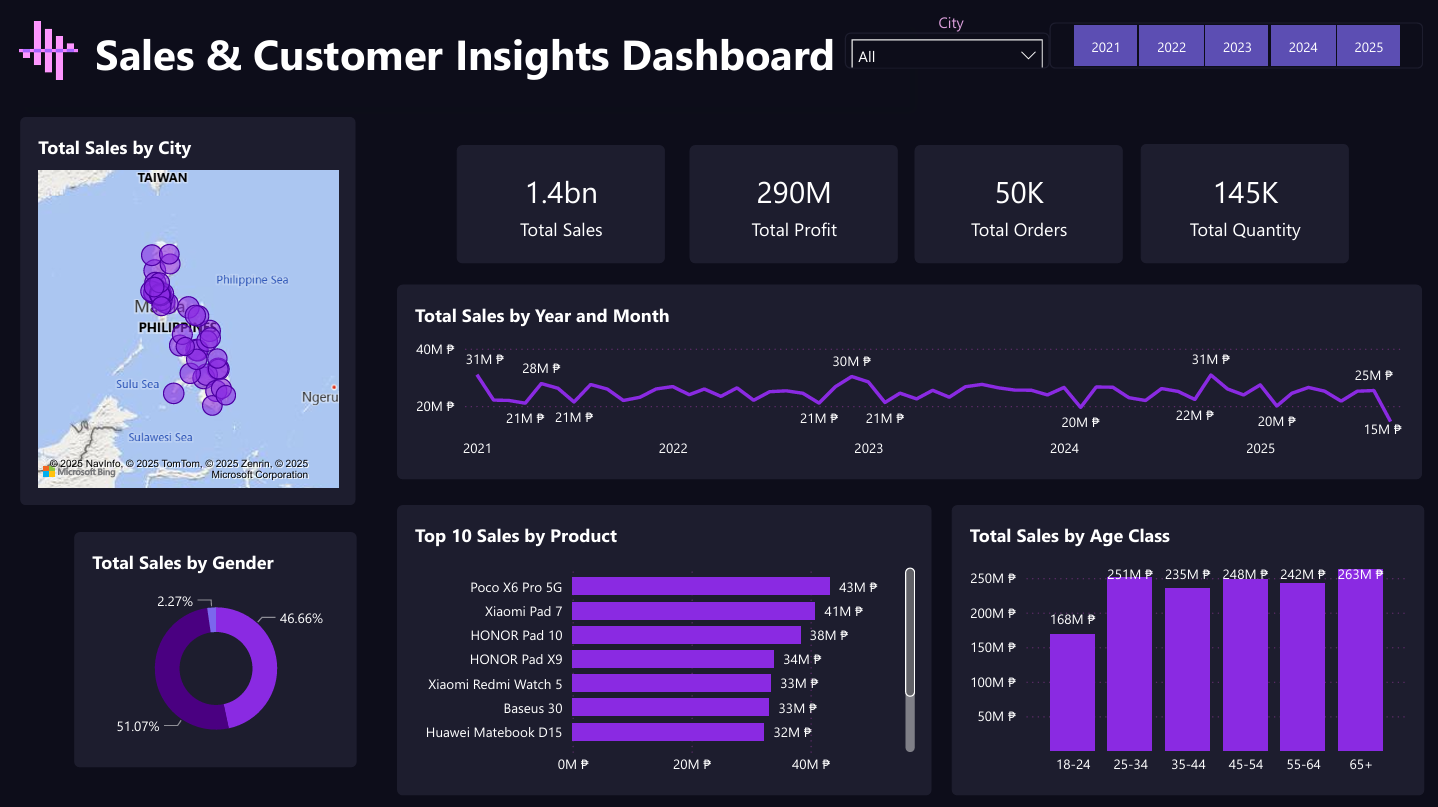

What the dashboard file says about the page in this screenshot:
{"tool":"powerbi","page":{"name":"Page 1","canvas":[1280,720],"ordinal":0},"visuals":[{"type":"card","fields":{"Values":["SalesFact.Total Sales"]},"box":[406.2,128.8,185,107.5],"z":0},{"type":"card","fields":{"Values":["SalesFact.Total Profit"]},"box":[620,128.8,177.5,107.5],"z":1000},{"type":"textbox","box":[17.5,20,791.2,75],"z":2000},{"type":"card","fields":{"Values":["SalesFact.Total Orders"]},"box":[820,128.8,131.2,107.5],"z":3000},{"type":"card","fields":{"Values":["SalesFact.Total Quantity"]},"box":[966.2,128.8,170,107.5],"z":4000},{"type":"lineChart","fields":{"Category":["SalesFact.OrderDate.Variation.Date Hierarchy.Year","SalesFact.OrderDate.Variation.Date Hierarchy.Month"],"Y":["SalesFact.Total Sales"]},"box":[353.8,276.2,910,172.5],"z":5000},{"type":"clusteredColumnChart","title":"Top 10 Sales by Product","fields":{"Category":["SalesFact.ProductName"],"Y":["SalesFact.Total Sales"]},"box":[353.8,462.5,473.8,257.5],"z":6000},{"type":"map","fields":{"Category":["SalesFact.City"],"Size":["SalesFact.Total Sales"]},"box":[17.5,103.8,298.8,345],"z":7000},{"type":"donutChart","fields":{"Category":["SalesFact.Gender"],"Y":["SalesFact.Total Sales"]},"box":[42.5,486.2,251.2,208.8],"z":8000},{"type":"columnChart","title":"Total Sales by Age Class","fields":{"Category":["SalesFact.AgeBracket"],"Y":["SalesFact.Total Sales"]},"box":[837.5,462.5,426.2,257.5],"z":9000},{"type":"slicer","fields":{"Values":["Cities.City"]},"box":[751.2,28.8,181.2,32.5],"z":10000},{"type":"textbox","box":[758.9,11.1,173.3,17.8],"z":11000},{"type":"slicer","fields":{"Values":["SalesFact.Year"]},"box":[932.5,20,332.5,41.2],"z":11001},{"type":"image","box":[1.2,3.8,82.5,82.5],"z":11002}]}

Visuals, with their boxes in screenshot pixels (x1, y1, x2, y2), scaled from the page's 1280x720 canvas onto the 1438x807 screenshot:
card - SalesFact.Total Sales: Rect(456, 144, 664, 265)
card - SalesFact.Total Profit: Rect(697, 144, 896, 265)
textbox: Rect(20, 22, 909, 106)
card - SalesFact.Total Orders: Rect(921, 144, 1069, 265)
card - SalesFact.Total Quantity: Rect(1085, 144, 1276, 265)
lineChart - SalesFact.OrderDate.Variation.Date Hierarchy.Year x SalesFact.OrderDate.Variation.Date Hierarchy.Month: Rect(397, 310, 1420, 503)
"Top 10 Sales by Product" clusteredColumnChart: Rect(397, 518, 930, 806)
map - SalesFact.City x SalesFact.Total Sales: Rect(20, 116, 355, 503)
donutChart - SalesFact.Gender x SalesFact.Total Sales: Rect(48, 545, 330, 779)
"Total Sales by Age Class" columnChart: Rect(941, 518, 1420, 806)
slicer - Cities.City: Rect(844, 32, 1047, 69)
textbox: Rect(853, 12, 1047, 32)
slicer - SalesFact.Year: Rect(1048, 22, 1421, 69)
image: Rect(1, 4, 94, 97)
